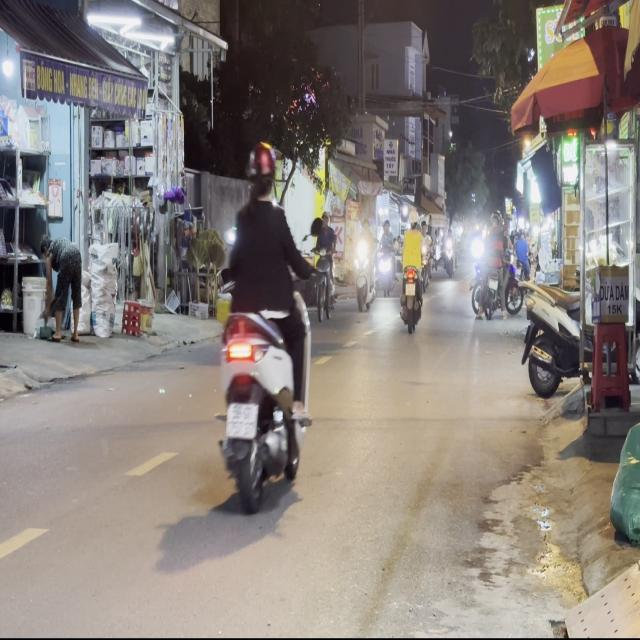helmet: (244, 141, 276, 199)
licenseplate: (213, 138, 315, 512)
nohelmet: (226, 402, 256, 437)
